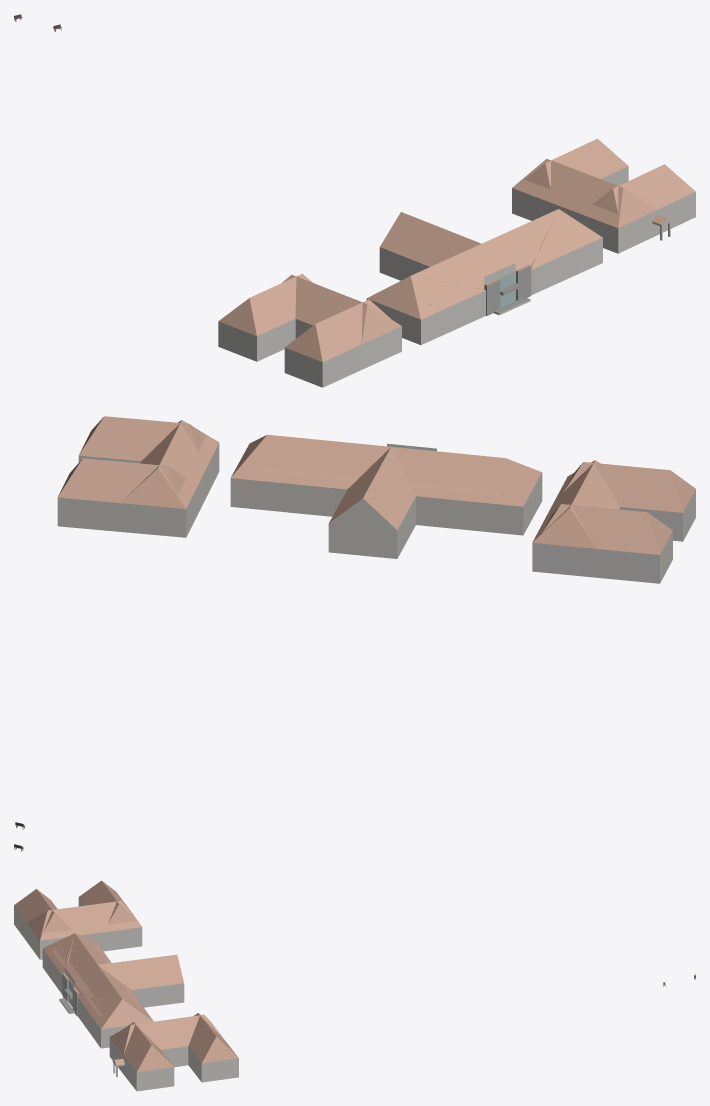
File: gridID_72.dae
3 views of the same model, one above another, from view 1: azimuth 30°, elevation 25°; view 2: azimuth 150°, elevation 25°; view 3: azimuth 270°, elevation 25° (orthographic). The views are drawn at different scales.
Visible parts, largest first — view 1: model_gridID_72_w116940064, model_gridID_72_w116940018, model_gridID_72_w116940055; view 2: model_gridID_72_w116940064, model_gridID_72_w116940055, model_gridID_72_w116940018; view 3: model_gridID_72_w116940064, model_gridID_72_w116940055, model_gridID_72_w116940018.
Boxes of the visible parts, bbox=[...] form: model_gridID_72_w116940064: bbox=[366, 209, 602, 344]; model_gridID_72_w116940018: bbox=[218, 273, 401, 387]; model_gridID_72_w116940055: bbox=[512, 138, 695, 253]; model_gridID_72_w116940064: bbox=[230, 434, 542, 558]; model_gridID_72_w116940055: bbox=[57, 416, 219, 537]; model_gridID_72_w116940018: bbox=[532, 460, 695, 583]; model_gridID_72_w116940064: bbox=[42, 933, 184, 1048]; model_gridID_72_w116940055: bbox=[109, 1013, 238, 1091]; model_gridID_72_w116940018: bbox=[14, 880, 142, 959].
Bounding box in the file's own units: 101 × 161 × 10.
